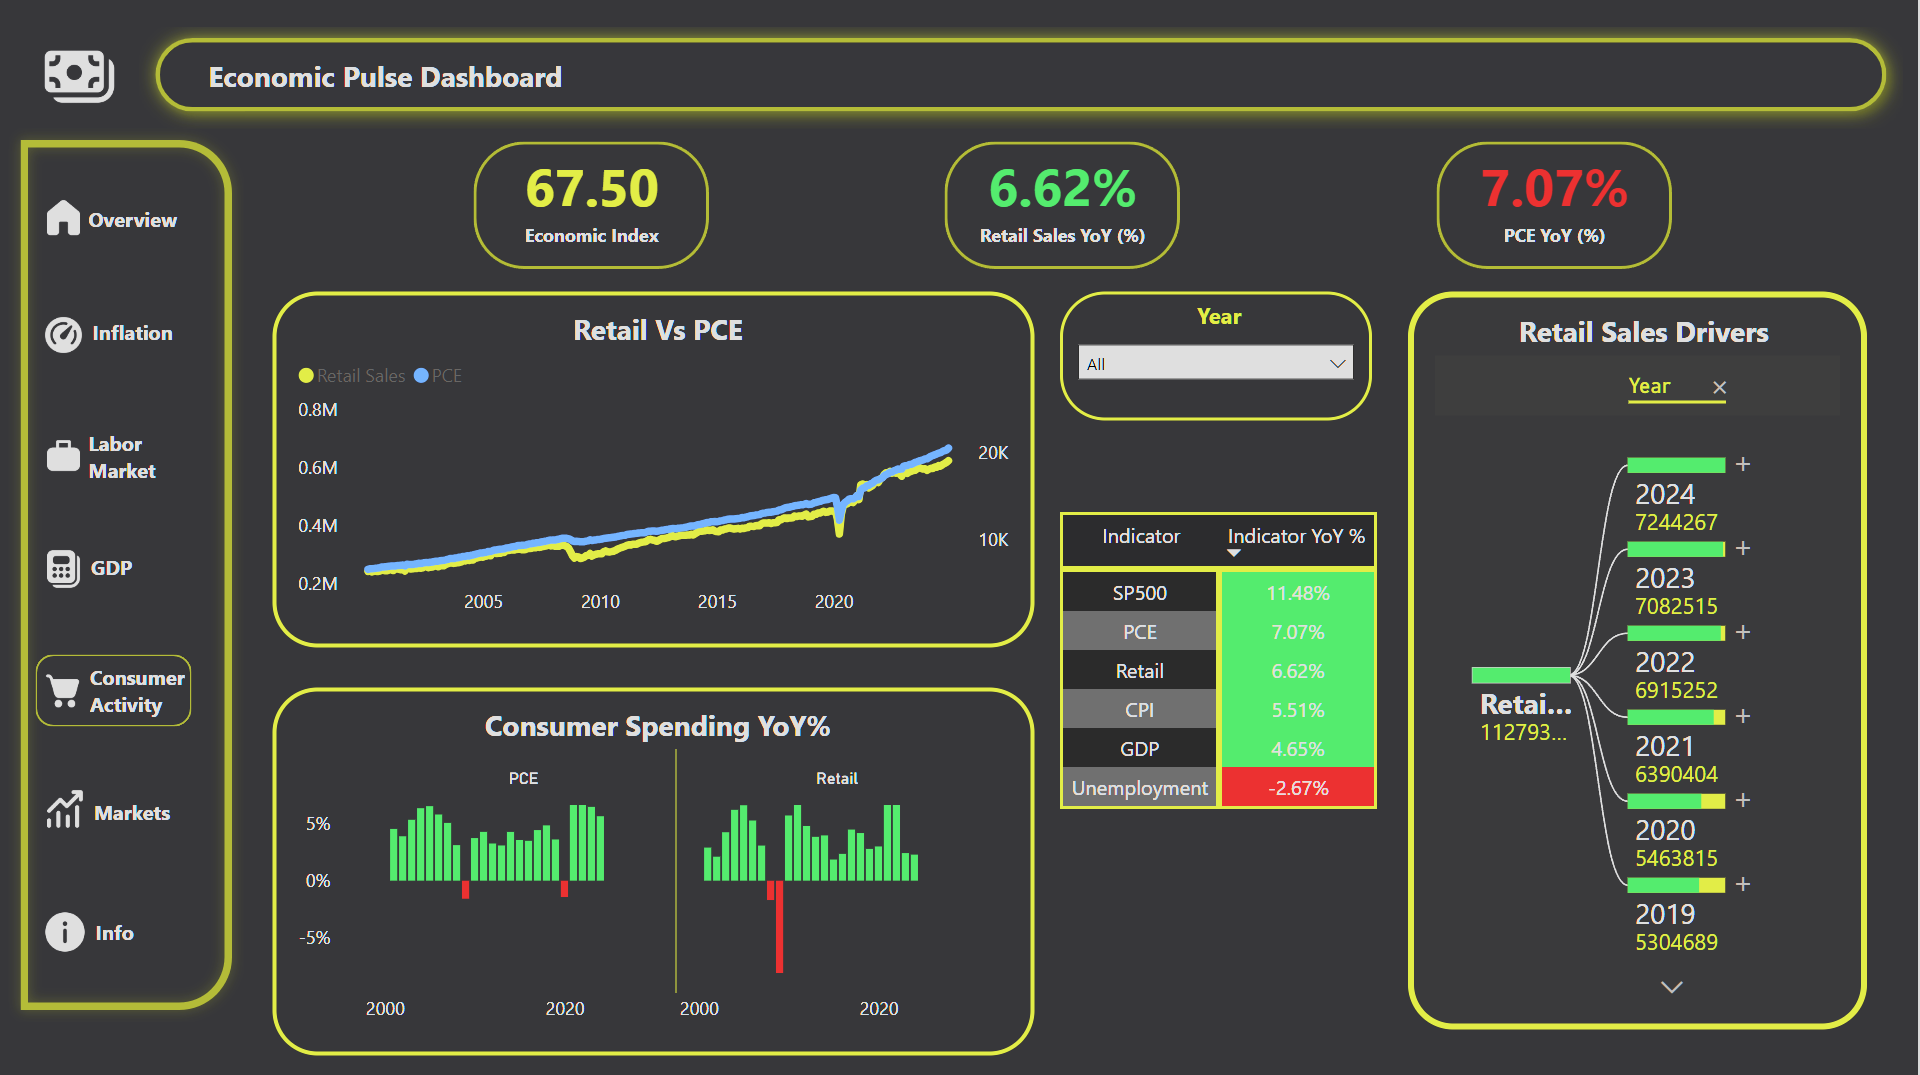

This screenshot's page, from the dashboard's own definition file:
{"tool":"powerbi","page":{"name":"Consumer Activity","canvas":[1280,720],"ordinal":4},"visuals":[{"type":"shape","title":"Economic Pulse Dashboard","box":[94.1,14.9,1176.2,70.8],"z":0},{"type":"group","id":"g1","title":"Group 2","box":[630.6,92,484,91],"z":0,"group":"g16"},{"type":"shape","box":[317,94.1,156.7,85.2],"z":0,"group":"g9"},{"type":"shape","box":[630.6,94.6,156.7,85.2],"z":0,"group":"g6"},{"type":"shape","box":[958.4,95,156.7,85.2],"z":0,"group":"g4"},{"type":"image","box":[29.2,195.4,29.6,58.1],"z":0,"group":"g3"},{"type":"image","box":[14.4,23.2,80,54.4],"z":1000},{"type":"card","fields":{"Values":["Measures_Scoring.Economic Index"]},"box":[319.7,91.5,151.3,90.5],"z":1000,"group":"g9"},{"type":"card","fields":{"Values":["Measures_YoY.Retail Sales YoY %"]},"box":[633.3,92,151.3,90.5],"z":1000,"group":"g6"},{"type":"card","fields":{"Values":["Measures_YoY.PCE YoY %"]},"box":[961.1,92.4,151.3,90.5],"z":1000,"group":"g4"},{"type":"textbox","box":[38.6,207.6,102.6,51.8],"z":1000,"group":"g3"},{"type":"shape","box":[6.6,85.8,157.2,595.8],"z":2000},{"type":"shape","box":[17.4,201,104.4,47.4],"z":2000,"group":"g3"},{"type":"group","id":"g2","title":"Group 3","box":[23.4,116.7,112.1,79.1],"z":3000},{"type":"image","box":[29.2,116.7,29.6,58.1],"z":4000,"group":"g2"},{"type":"group","id":"g3","title":"Group 4","box":[17.4,195.4,123.8,64],"z":4000},{"type":"textbox","box":[56.5,436.7,76.2,69.6],"z":4000,"group":"g11"},{"type":"group","id":"g4","title":"Group 1","box":[958.4,92.4,156.3,90.6],"z":5000,"group":"g1"},{"type":"group","id":"g5","title":"Group 10","box":[14.4,351.2,104.4,69.6],"z":5000},{"type":"image","box":[29.2,351.2,29.6,58.1],"z":5000,"group":"g7"},{"type":"group","id":"g6","title":"Group 1","box":[630.6,92,154,90.5],"z":6000,"group":"g1"},{"type":"image","box":[29.2,276.1,29.6,58.1],"z":6000,"group":"g14"},{"type":"group","id":"g7","title":"Group 6","box":[29.2,351.2,80.9,69.6],"z":6000,"group":"g5"},{"type":"group","id":"g8","title":"Group 11","box":[25.2,432,107.5,74.4],"z":6000},{"type":"image","box":[29.2,432,29.6,58.1],"z":6000,"group":"g11"},{"type":"group","id":"g9","title":"Group 1","box":[317,91.5,153.7,91.5],"z":7000,"group":"g16"},{"type":"textbox","box":[44.2,131.8,91.3,64],"z":7000,"group":"g2"},{"type":"group","id":"g10","title":"Group 12","box":[22.2,511.4,125.6,76.2],"z":7000},{"type":"image","box":[29.2,511.4,29.6,58.1],"z":7000,"group":"g13"},{"type":"textbox","box":[41.4,364.4,68.7,56.5],"z":8000,"group":"g7"},{"type":"group","id":"g11","title":"Group 7","box":[29.2,432,103.5,74.4],"z":8000,"group":"g8"},{"type":"group","id":"g12","title":"Group 13","box":[14.4,593.2,111.7,59.3],"z":8000},{"type":"textbox","box":[54.6,280.8,90.4,89.4],"z":9000},{"type":"group","id":"g13","title":"Group 8","box":[29.2,511.4,118.6,76.2],"z":9000,"group":"g10"},{"type":"image","box":[29.2,593.2,30.6,58.1],"z":9000,"group":"g15"},{"type":"group","id":"g14","title":"Group 5","box":[23.4,276.1,93,58.1],"z":10000},{"type":"textbox","box":[30.1,527.4,117.6,60.2],"z":10000,"group":"g13"},{"type":"group","id":"g15","title":"Group 9","box":[29.2,593.2,96.9,59.3],"z":10000,"group":"g12"},{"type":"shape","box":[23.4,124.2,104.4,47.4],"z":10001,"group":"g2"},{"type":"group","id":"g16","title":"Group 15","box":[317,91.5,797.7,91.5],"z":11000},{"type":"shape","box":[23.4,281.4,93,47.4],"z":11000,"group":"g14"},{"type":"textbox","box":[29.2,607.3,96.9,45.2],"z":11000,"group":"g15"},{"type":"decompositionTreeVisual","title":"Retail Sales Drivers","fields":{"ExplainBy":["Calendar.Year","Labor_Market_Merged.GDP_YoY","Labor_Market_Merged.Unemployment_YoY","Labor_Market_Merged.PCE_YoY","Labor_Market_Merged.CPI_YoY","Labor_Market_Merged.SP500_YoY"],"Analyze":["Sum(Retail_Sales.RetailSales_Value)"]},"box":[940.2,195.1,305.6,492.1],"z":12000},{"type":"shape","box":[14.4,357,104.4,47.4],"z":12002,"group":"g5"},{"type":"shape","box":[25.2,437.4,104.4,47.4],"z":12004,"group":"g8"},{"type":"shape","box":[22.2,516.6,104.4,47.4],"z":12006,"group":"g10"},{"type":"shape","box":[14.4,598.8,104.4,47.4],"z":12008,"group":"g12"},{"type":"lineChart","title":" Retail Vs PCE","fields":{"Category":["Calendar.Date"],"Y":["Sum(Retail_Sales.RetailSales_Value)"],"Y2":["Sum(PCE.PCE_Value)"]},"box":[183,195.1,507.6,236.5],"z":13000},{"type":"pivotTable","fields":{"Rows":["Indicators.Indicator"],"Values":["Measures_YoY.Indicator YoY %"]},"box":[707.9,341.9,219.3,237.4],"z":14000},{"type":"slicer","title":"Year","fields":{"Values":["Calendar.Year"]},"box":[707.9,195.1,208.1,86.3],"z":15000},{"type":"clusteredColumnChart","title":"Consumer Spending YoY%","fields":{"Category":["Calendar.Year"],"Y":["Indicators.Indicator Labor YoY %"],"Rows":["Indicators.Indicator"]},"box":[183,459.3,507.6,244.3],"z":16000}]}

Visuals, with their boxes in screenshot pixels (x1, y1, x2, y2), scaled from the page's 1280x720 canvas onto the 1920x1075 screenshot:
"Economic Pulse Dashboard" shape: <region>141, 22, 1905, 128</region>
"Group 2" group: <region>946, 137, 1672, 273</region>
shape: <region>476, 140, 711, 268</region>
shape: <region>946, 141, 1181, 268</region>
shape: <region>1438, 142, 1673, 269</region>
image: <region>44, 292, 88, 378</region>
image: <region>22, 35, 142, 116</region>
card - Measures_Scoring.Economic Index: <region>480, 137, 706, 272</region>
card - Measures_YoY.Retail Sales YoY %: <region>950, 137, 1177, 272</region>
card - Measures_YoY.PCE YoY %: <region>1442, 138, 1669, 273</region>
textbox: <region>58, 310, 212, 387</region>
shape: <region>10, 128, 246, 1018</region>
shape: <region>26, 300, 183, 371</region>
"Group 3" group: <region>35, 174, 203, 292</region>
image: <region>44, 174, 88, 261</region>
"Group 4" group: <region>26, 292, 212, 387</region>
textbox: <region>85, 652, 199, 756</region>
"Group 1" group: <region>1438, 138, 1672, 273</region>
"Group 10" group: <region>22, 524, 178, 628</region>
image: <region>44, 524, 88, 611</region>
"Group 1" group: <region>946, 137, 1177, 272</region>
image: <region>44, 412, 88, 499</region>
"Group 6" group: <region>44, 524, 165, 628</region>
"Group 11" group: <region>38, 645, 199, 756</region>
image: <region>44, 645, 88, 732</region>
"Group 1" group: <region>476, 137, 706, 273</region>
textbox: <region>66, 197, 203, 292</region>
"Group 12" group: <region>33, 764, 222, 877</region>
image: <region>44, 764, 88, 850</region>
textbox: <region>62, 544, 165, 628</region>
"Group 7" group: <region>44, 645, 199, 756</region>
"Group 13" group: <region>22, 886, 189, 974</region>
textbox: <region>82, 419, 218, 553</region>
"Group 8" group: <region>44, 764, 222, 877</region>
image: <region>44, 886, 90, 972</region>
"Group 5" group: <region>35, 412, 175, 499</region>
textbox: <region>45, 787, 222, 877</region>
"Group 9" group: <region>44, 886, 189, 974</region>
shape: <region>35, 185, 192, 256</region>
"Group 15" group: <region>476, 137, 1672, 273</region>
shape: <region>35, 420, 175, 491</region>
textbox: <region>44, 907, 189, 974</region>
"Retail Sales Drivers" decompositionTreeVisual: <region>1410, 291, 1869, 1026</region>
shape: <region>22, 533, 178, 604</region>
shape: <region>38, 653, 194, 724</region>
shape: <region>33, 771, 190, 842</region>
shape: <region>22, 894, 178, 965</region>
" Retail Vs PCE" lineChart: <region>274, 291, 1036, 644</region>
pivotTable - Indicators.Indicator x Measures_YoY.Indicator YoY %: <region>1062, 510, 1391, 865</region>
"Year" slicer: <region>1062, 291, 1374, 420</region>
"Consumer Spending YoY%" clusteredColumnChart: <region>274, 686, 1036, 1051</region>
